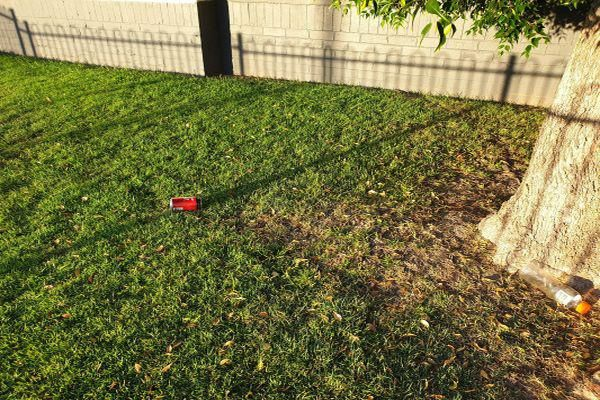Plastic Bottle: (518, 262, 592, 315), (169, 197, 203, 212)
